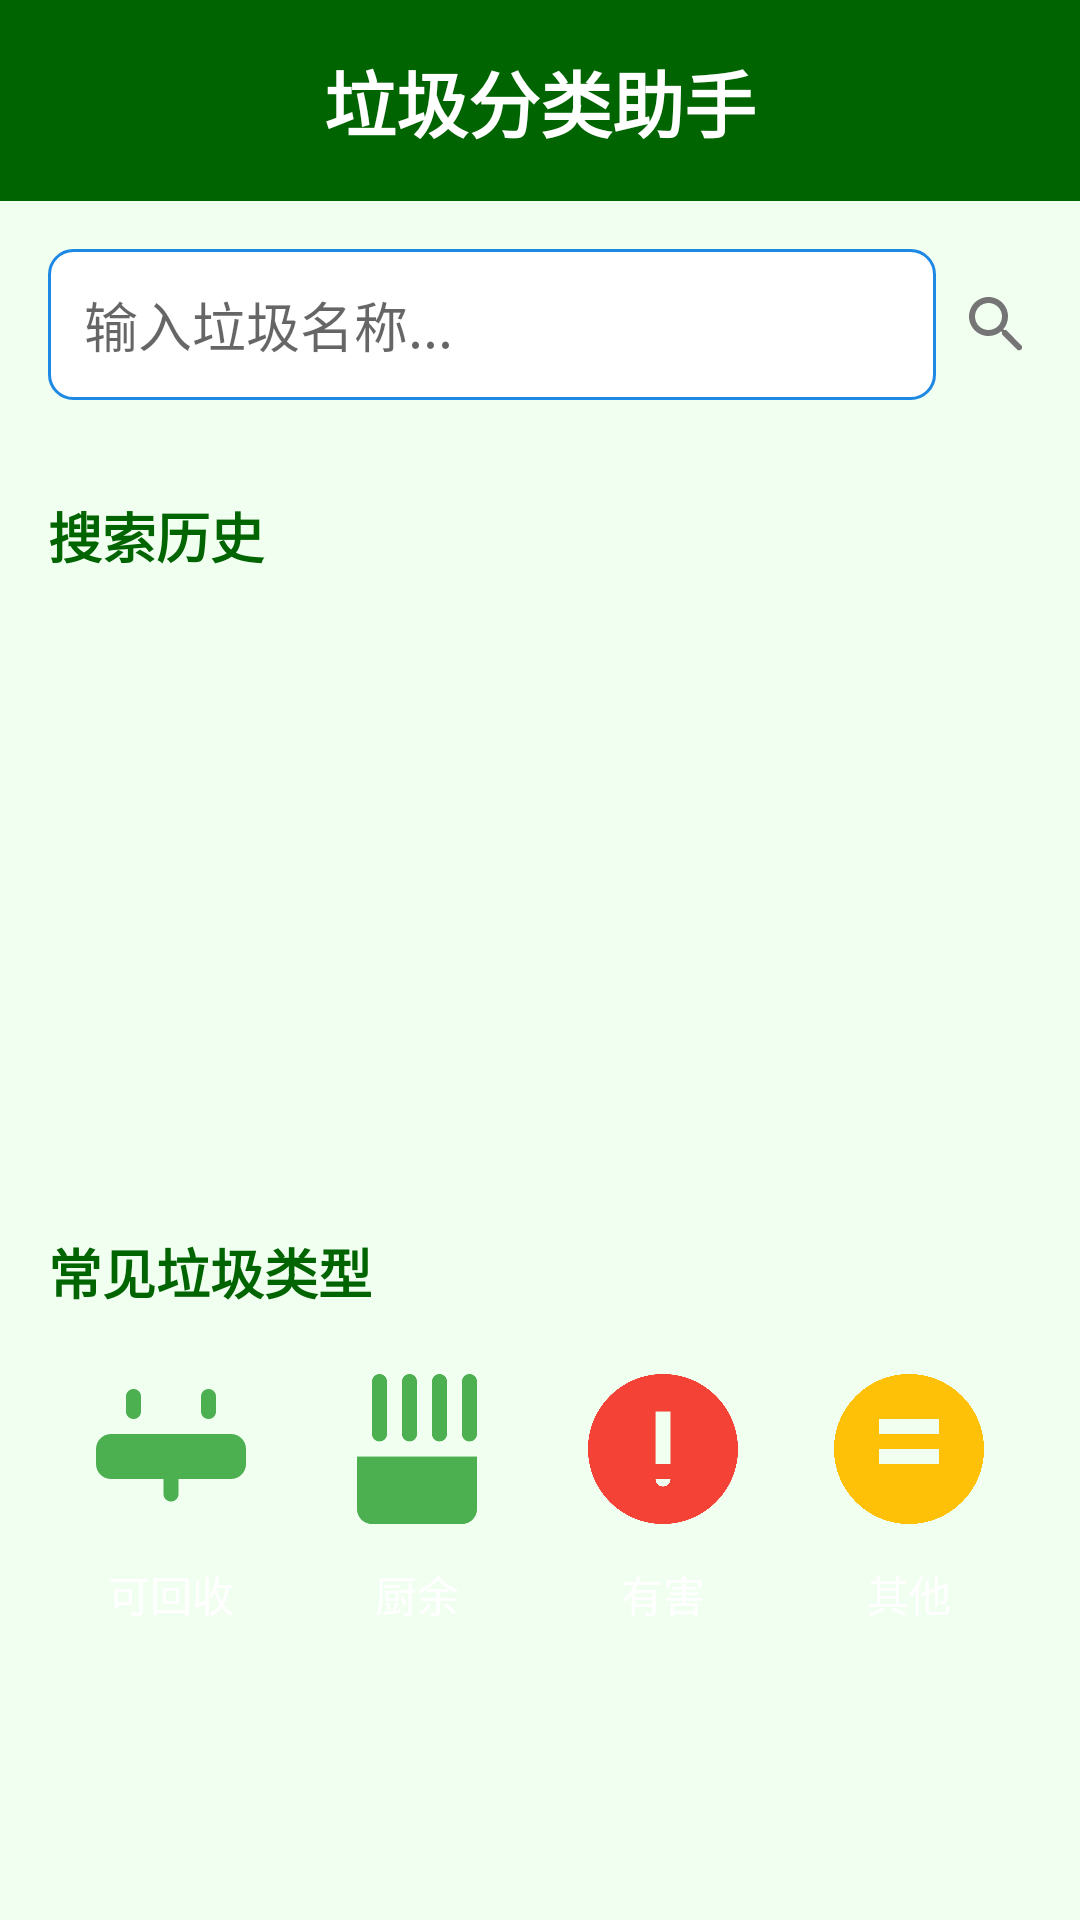

Screen size 1080×1920. Icon name, then its center in pixels as [x,y]:
harmful: [663,1449]
